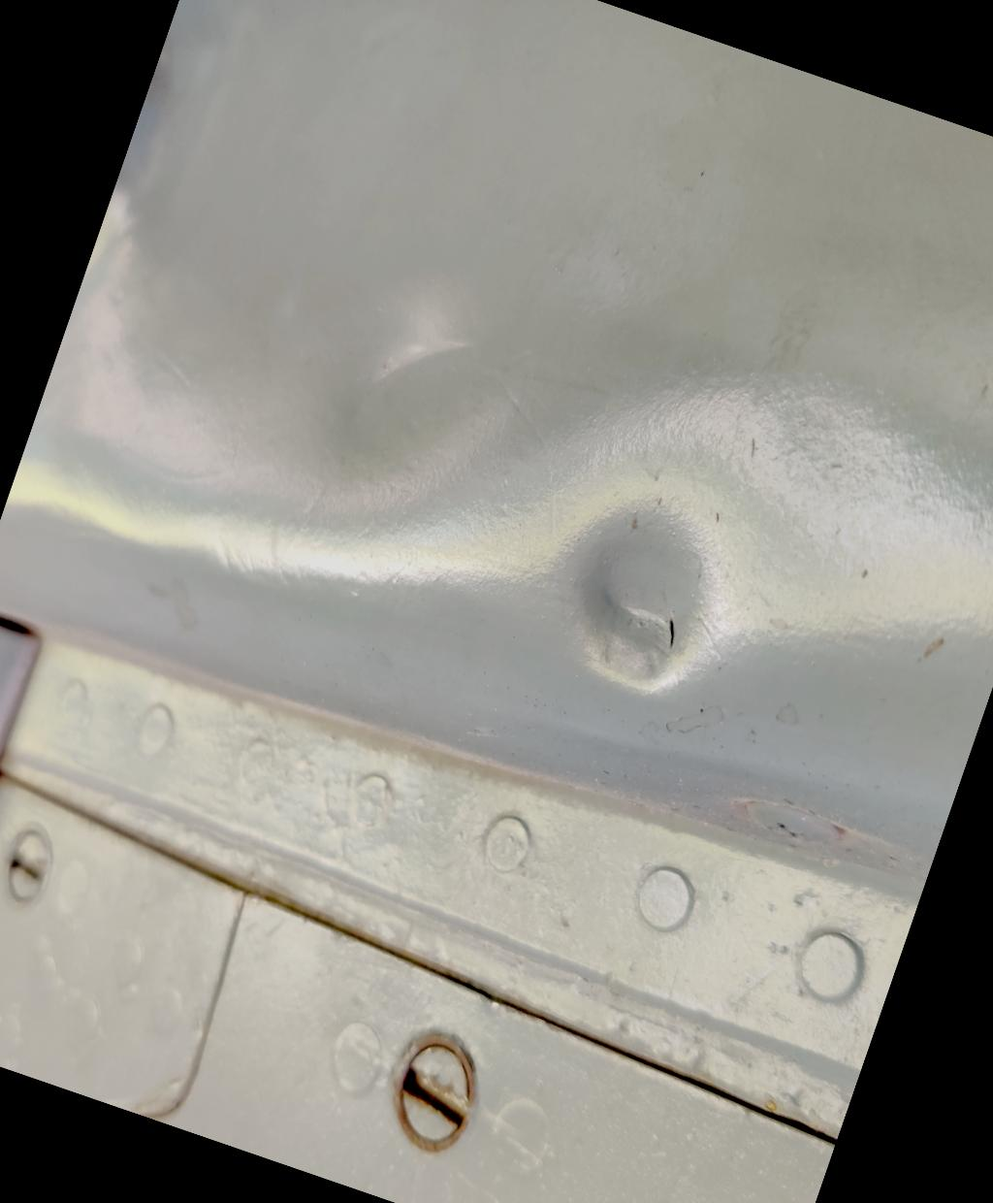dent: (482, 412, 810, 770), (282, 250, 526, 503)
